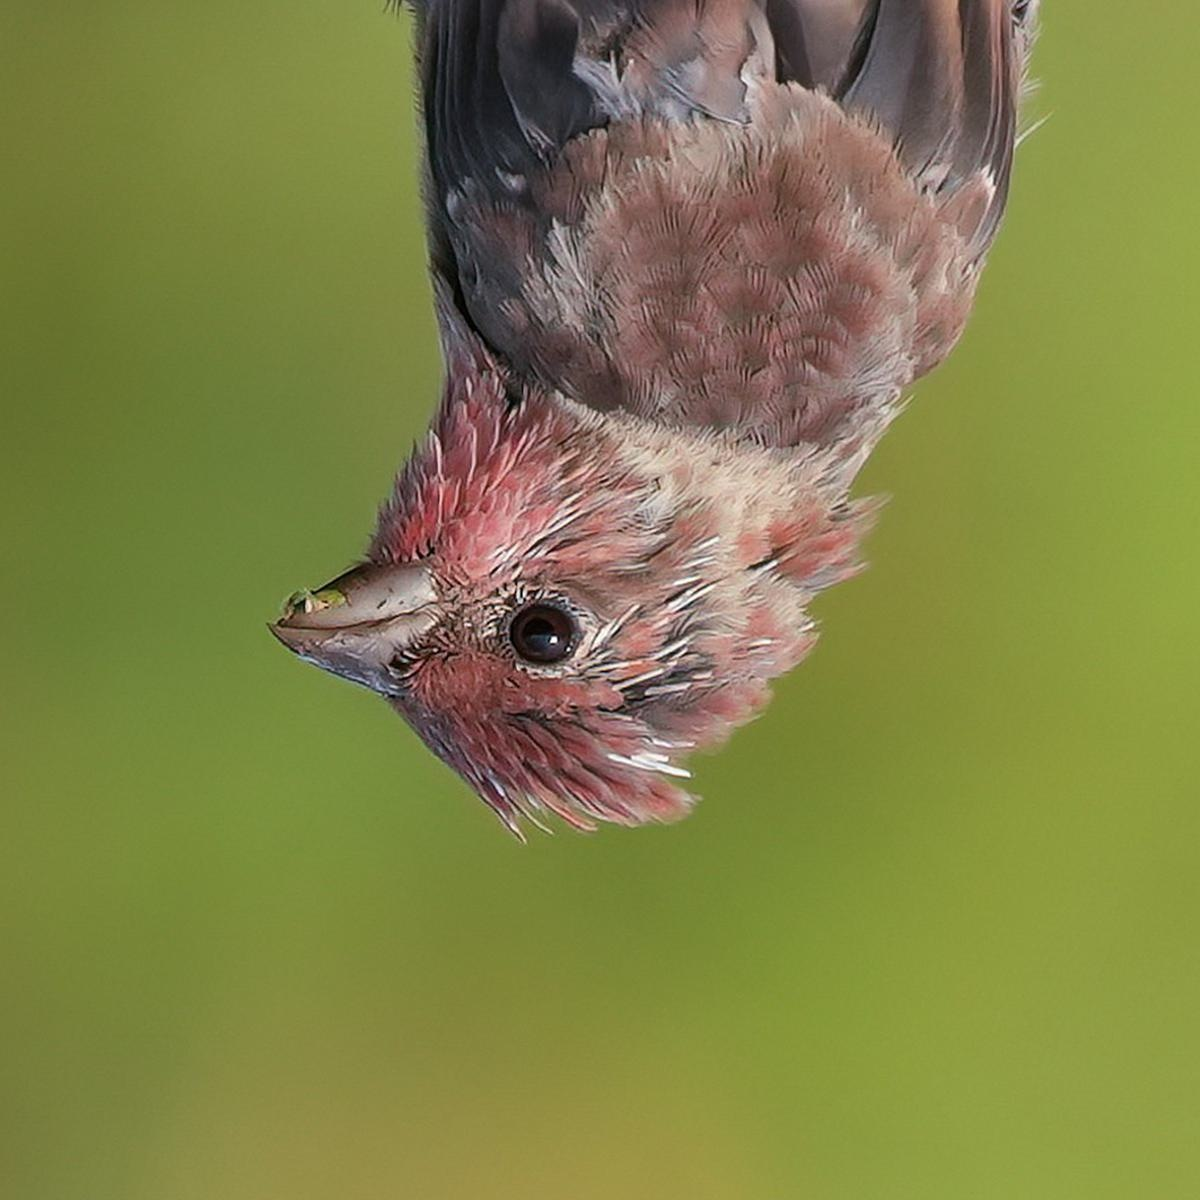rosefinch: (177, 11, 1055, 834)
